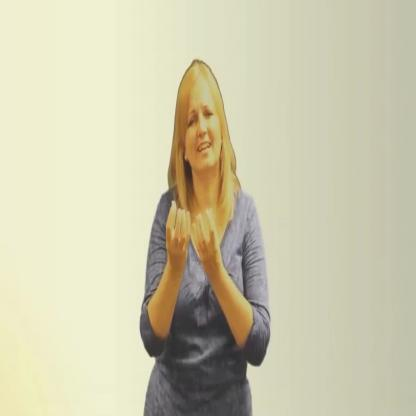ThankYou: (152, 56, 207, 285)
